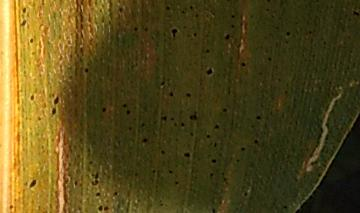tarspot: (154, 110, 171, 126), (87, 171, 103, 187), (250, 110, 267, 125), (167, 23, 181, 41), (201, 63, 216, 79), (114, 1, 127, 18), (187, 106, 200, 123), (219, 29, 233, 43), (210, 119, 223, 133), (28, 177, 40, 192), (137, 133, 149, 148), (178, 148, 193, 160), (95, 202, 111, 213), (50, 93, 63, 106), (79, 64, 93, 76), (47, 105, 61, 117), (124, 120, 136, 134), (26, 90, 37, 105), (93, 188, 105, 201), (156, 146, 168, 159), (347, 7, 360, 19), (162, 1, 174, 14), (206, 155, 218, 167), (237, 59, 249, 71), (202, 44, 214, 56), (18, 16, 29, 29), (219, 104, 230, 117), (250, 135, 261, 148), (166, 165, 176, 179), (192, 10, 206, 20), (98, 104, 109, 116), (182, 89, 193, 101), (148, 165, 159, 177), (228, 10, 240, 21), (184, 4, 198, 13), (18, 5, 29, 16), (167, 88, 178, 99), (157, 77, 167, 89), (178, 117, 187, 130), (26, 34, 36, 45), (207, 170, 218, 180), (282, 29, 292, 40), (240, 188, 250, 199), (265, 52, 274, 64), (239, 143, 247, 156), (124, 106, 133, 117), (209, 204, 220, 213), (111, 189, 122, 198), (130, 23, 139, 33), (142, 24, 152, 33), (71, 177, 79, 188), (191, 29, 199, 40), (119, 100, 128, 109), (281, 201, 288, 212), (179, 9, 187, 18), (7, 202, 16, 209)
